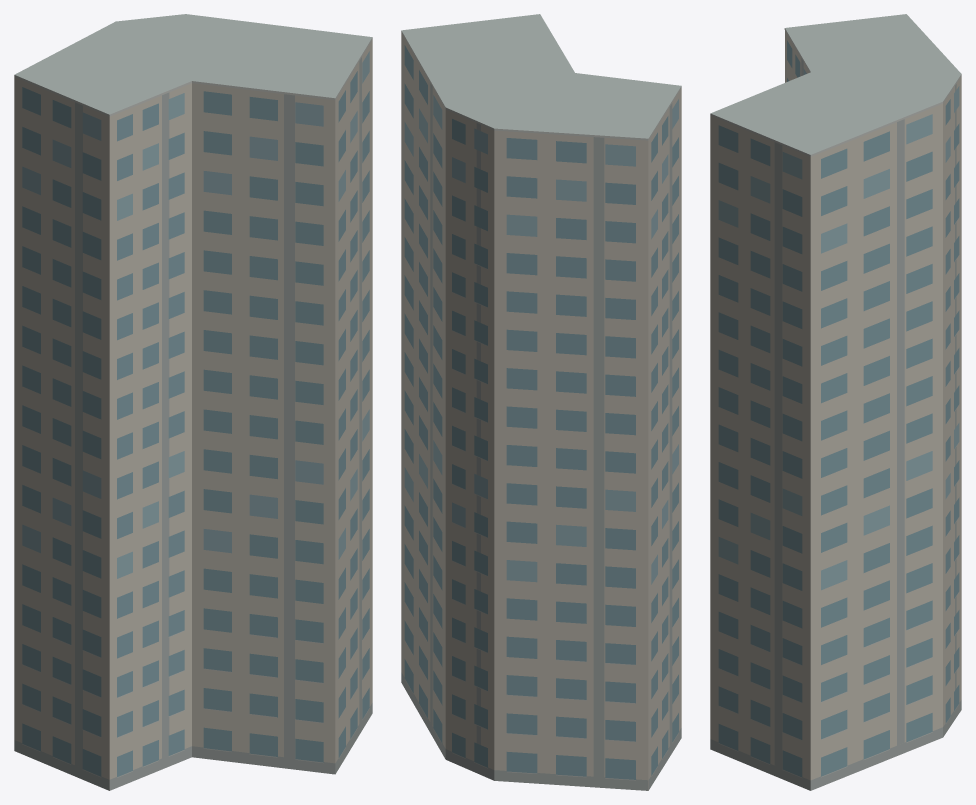
File: residential-96fc5bca-31e5-4e30-a959-d5787b93eea3.glb
The picture shows the model from 3 angles, left to right: view 1: azimuth 30°, elevation 25°; view 2: azimuth 150°, elevation 25°; view 3: azimuth 270°, elevation 25°; orthographic projection. The views are drawn at different scales.
Parts seen in each view (by area): view 1: residential-96fc5bca-31e5-4e30-a959-d5787b93eea3.tmp; view 2: residential-96fc5bca-31e5-4e30-a959-d5787b93eea3.tmp; view 3: residential-96fc5bca-31e5-4e30-a959-d5787b93eea3.tmp.
Part boxes in pixels (x1,y1,x2,y2): residential-96fc5bca-31e5-4e30-a959-d5787b93eea3.tmp: [14, 14, 372, 790]; residential-96fc5bca-31e5-4e30-a959-d5787b93eea3.tmp: [401, 14, 681, 790]; residential-96fc5bca-31e5-4e30-a959-d5787b93eea3.tmp: [710, 14, 961, 790].
Size of the model in its own units: 38.04 by 80 by 28.65.
